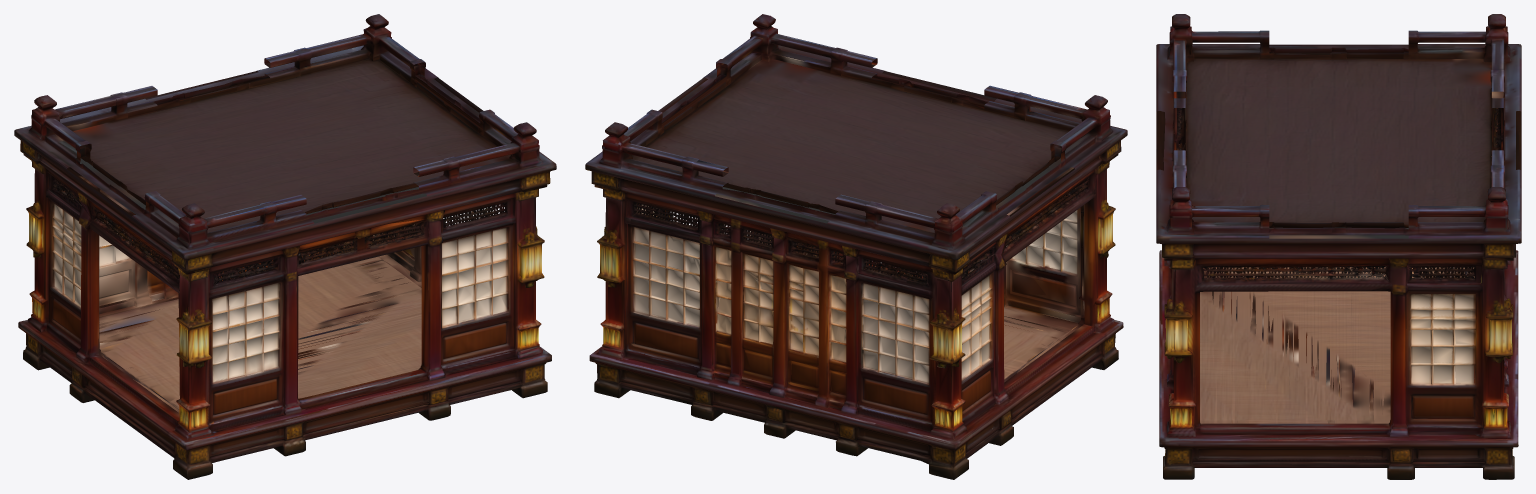
File: CorrectedRoom_Collision.fbx
The picture shows the model from 3 angles, left to right: view 1: azimuth 30°, elevation 25°; view 2: azimuth 150°, elevation 25°; view 3: azimuth 270°, elevation 25°; orthographic projection. The views are drawn at different scales.
Visible parts, largest first — view 1: CorrectedRoom_Collision; view 2: CorrectedRoom_Collision; view 3: CorrectedRoom_Collision.
Part boxes in pixels (x1=…): CorrectedRoom_Collision: x1=14, y1=14, x2=556, y2=479; CorrectedRoom_Collision: x1=585, y1=14, x2=1127, y2=479; CorrectedRoom_Collision: x1=1156, y1=14, x2=1521, y2=479.
Size of the model in its own units: 7.27 by 4.97 by 5.78.
Materials: 1 (1 with a texture image).
